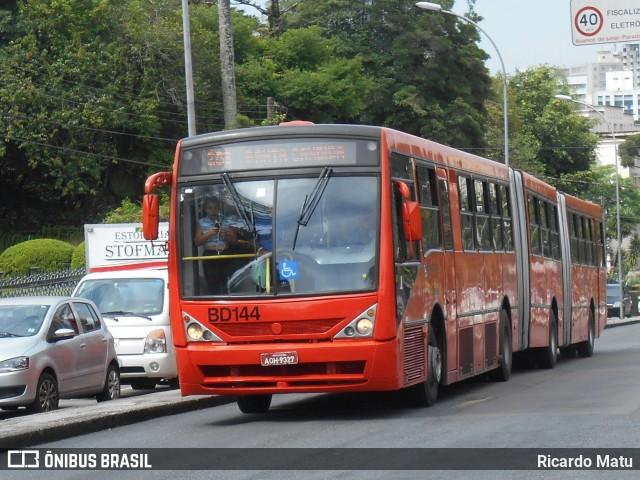SANTA CANDIDA: (235, 142, 350, 170)
